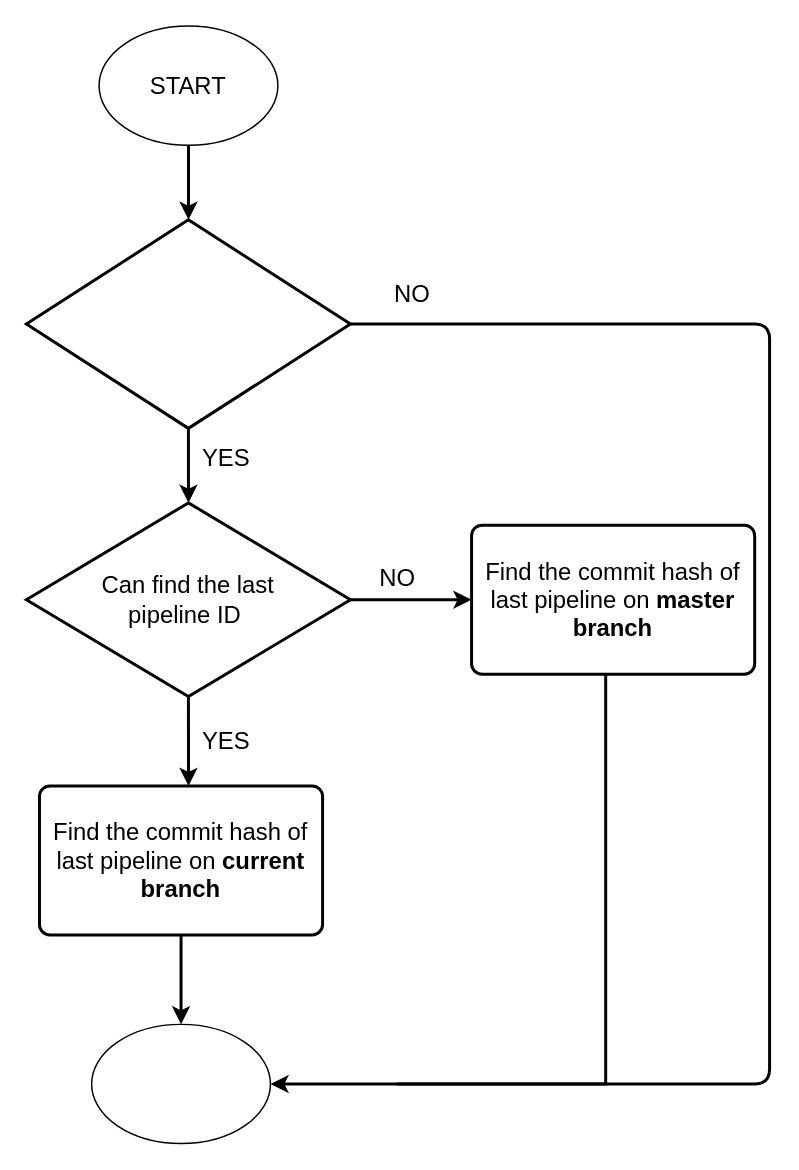
The diagram is 799 pixels wide and 1170 high, and some of its shapes have lost their labels. The centre of each missing label's shape, as x and y in pixels:
"Can find the index of current pipeline?" goes at (187,323).
"END" goes at (180,1083).
